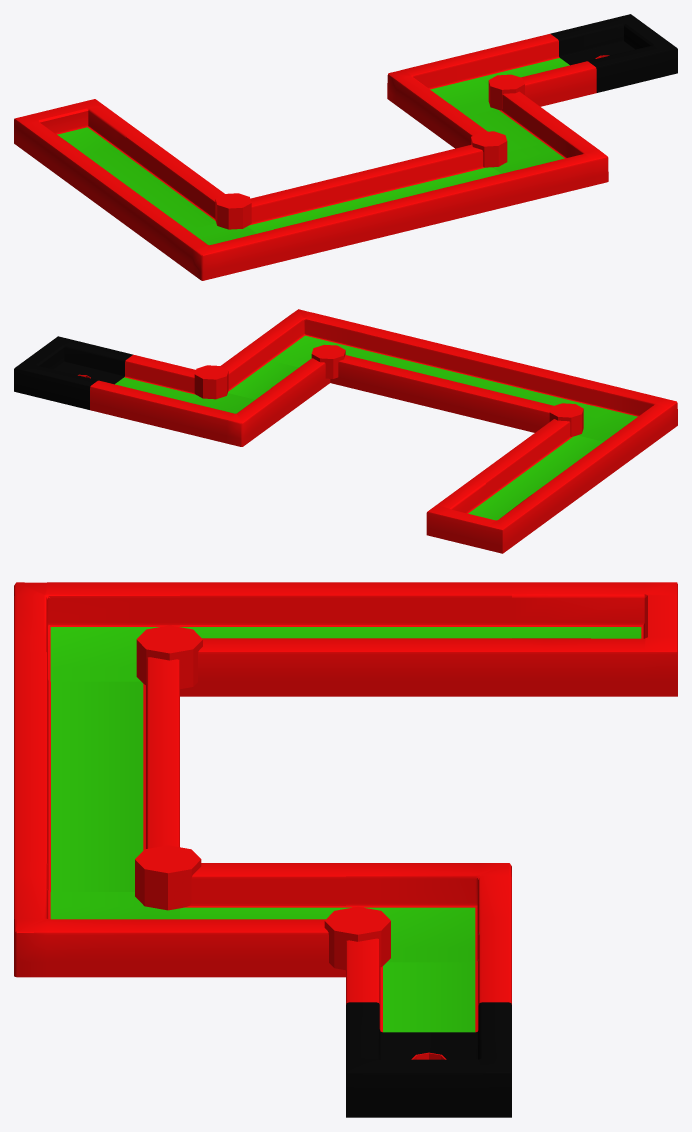
The model's file is level1_v2.FBX.
The picture shows the model from 3 angles, top to bottom: view 1: azimuth 30°, elevation 25°; view 2: azimuth 150°, elevation 25°; view 3: azimuth 270°, elevation 25°; orthographic projection. The views are drawn at different scales.
Visible parts, largest first — view 1: level2; view 2: level2; view 3: level2.
Boxes of the visible parts, x1,y1,x2,y2 form: level2: (14,14,677,280); level2: (14,309,677,553); level2: (14,582,677,1117).
Bounding box in the file's own units: 700 × 34.71 × 400.
